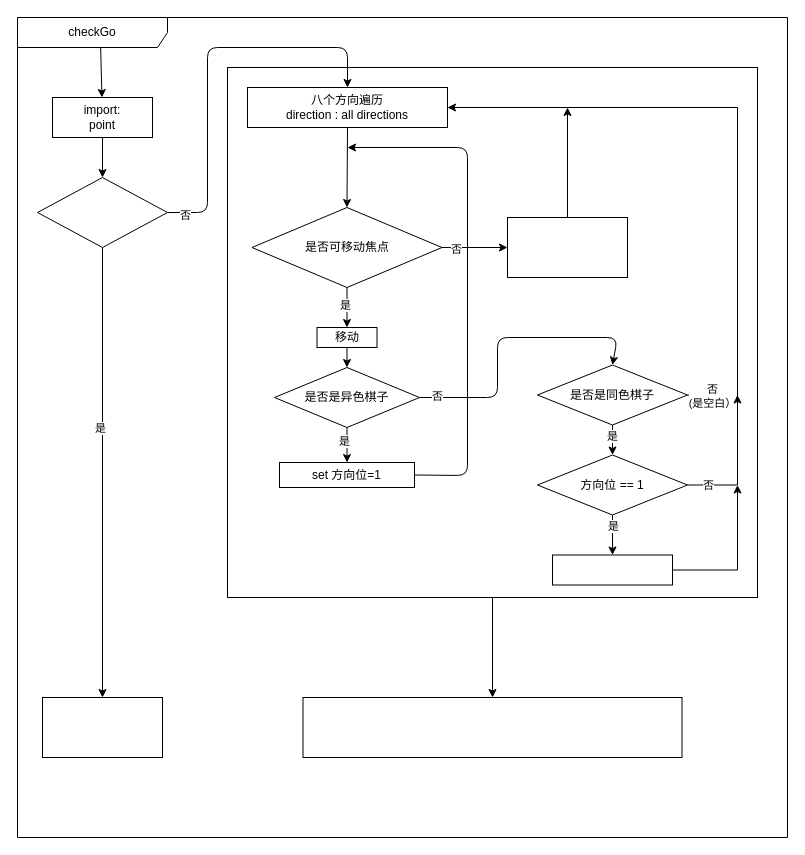
Image size: 805x855. Some labels were removed from this diagram. The centre of each missing label's shape, as x and y in pixels:
"exit : false" goes at (102,727).
"set 方向位 = 0" goes at (567,247).
"保持方向位 = 1" goes at (612,569).
"是否已占用" goes at (102,212).
"获得有效方向位 exit: true" goes at (492,727).
